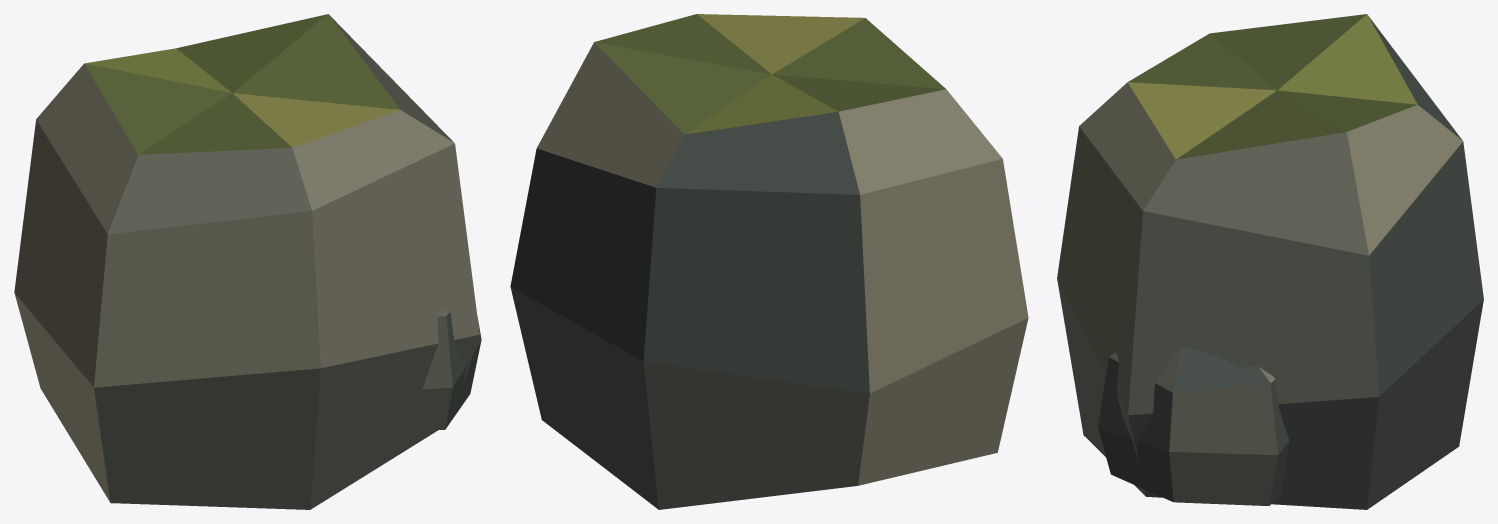
Rendered from greenhaven-boulder.glb.
The picture shows the model from 3 angles, left to right: view 1: azimuth 30°, elevation 25°; view 2: azimuth 150°, elevation 25°; view 3: azimuth 270°, elevation 25°; orthographic projection. The views are drawn at different scales.
Visible parts, largest first — view 1: Greenhaven_MossyBoulders; view 2: Greenhaven_MossyBoulders; view 3: Greenhaven_MossyBoulders.
Boxes of the visible parts, x1,y1,x2,y2 form: Greenhaven_MossyBoulders: [14, 14, 481, 509]; Greenhaven_MossyBoulders: [510, 14, 1028, 509]; Greenhaven_MossyBoulders: [1057, 14, 1483, 509].
Size of the model in its own units: 1.6 by 1.45 by 1.49.
